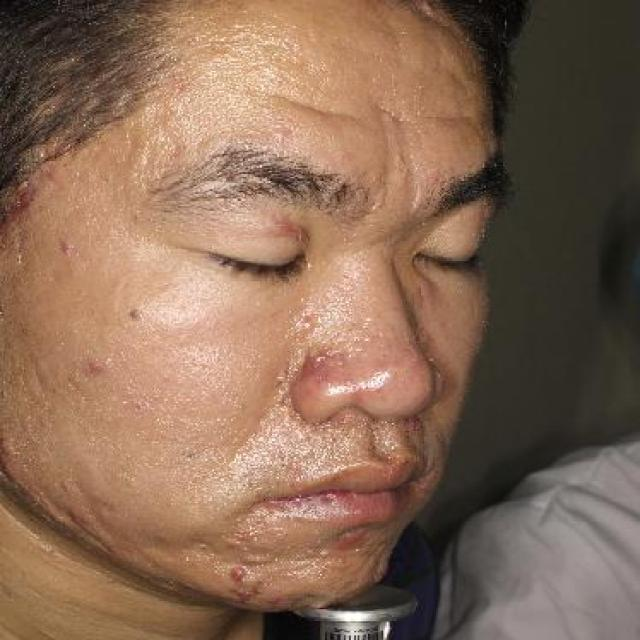papules: (74, 351, 114, 378), (50, 231, 82, 258), (226, 560, 250, 586), (298, 312, 318, 334)
